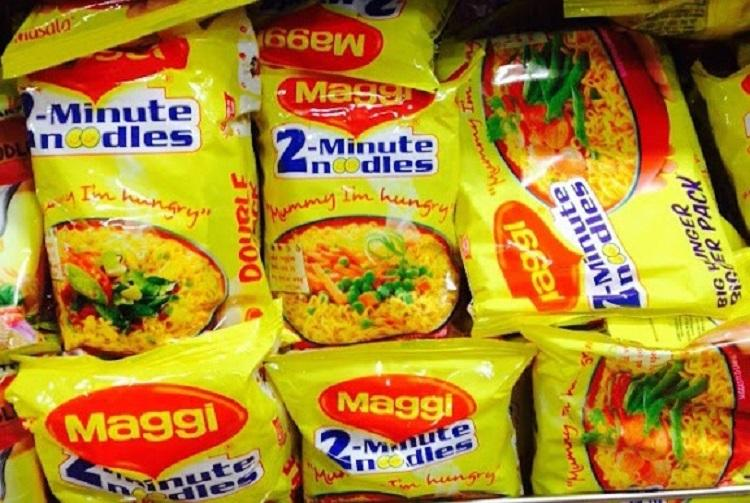maggi: (17, 64, 273, 344), (261, 66, 453, 337)
